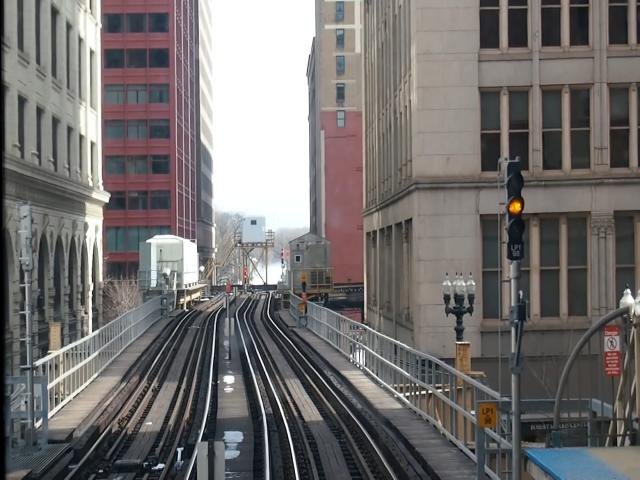signal light: (502, 159, 531, 261), (245, 267, 249, 283), (282, 249, 285, 269)
